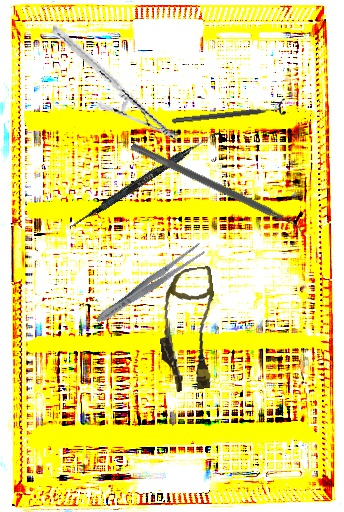Cannula: (151, 265, 226, 394)
Dressing Forceps: (92, 240, 208, 328)
Fixation Ring: (171, 98, 287, 130)
Needle Holder: (34, 24, 196, 143)
Spatula Surgical: (126, 142, 308, 239), (70, 125, 221, 233)
